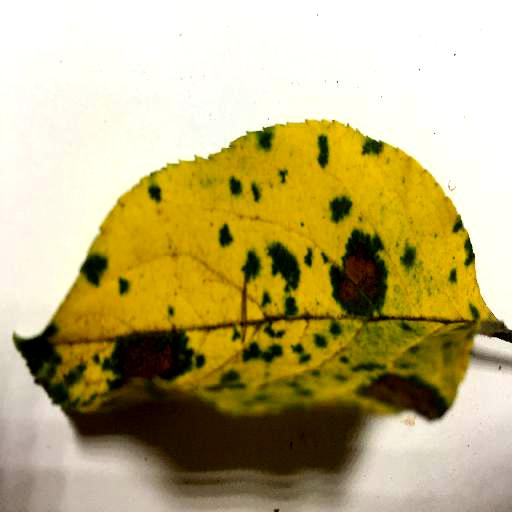Brown_Spot: (218, 255, 316, 395), (14, 338, 190, 411), (332, 366, 441, 426), (310, 236, 389, 312)
